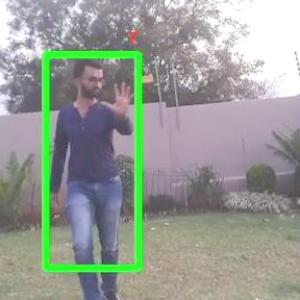follow_hand: (101, 75, 139, 122)
